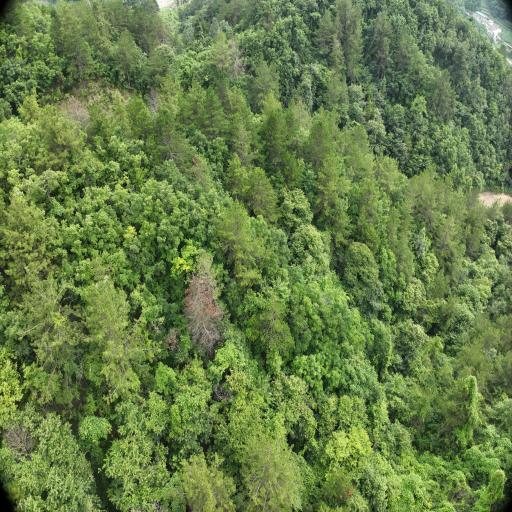dead-tree: (185, 276, 221, 351), (7, 429, 33, 452)
